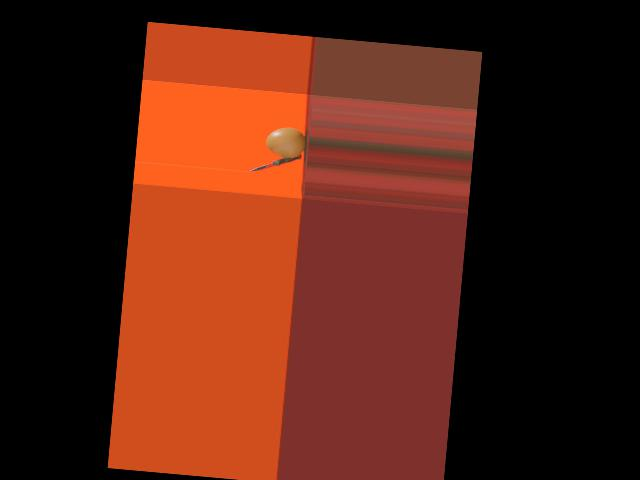egg: (266, 126, 306, 159)
